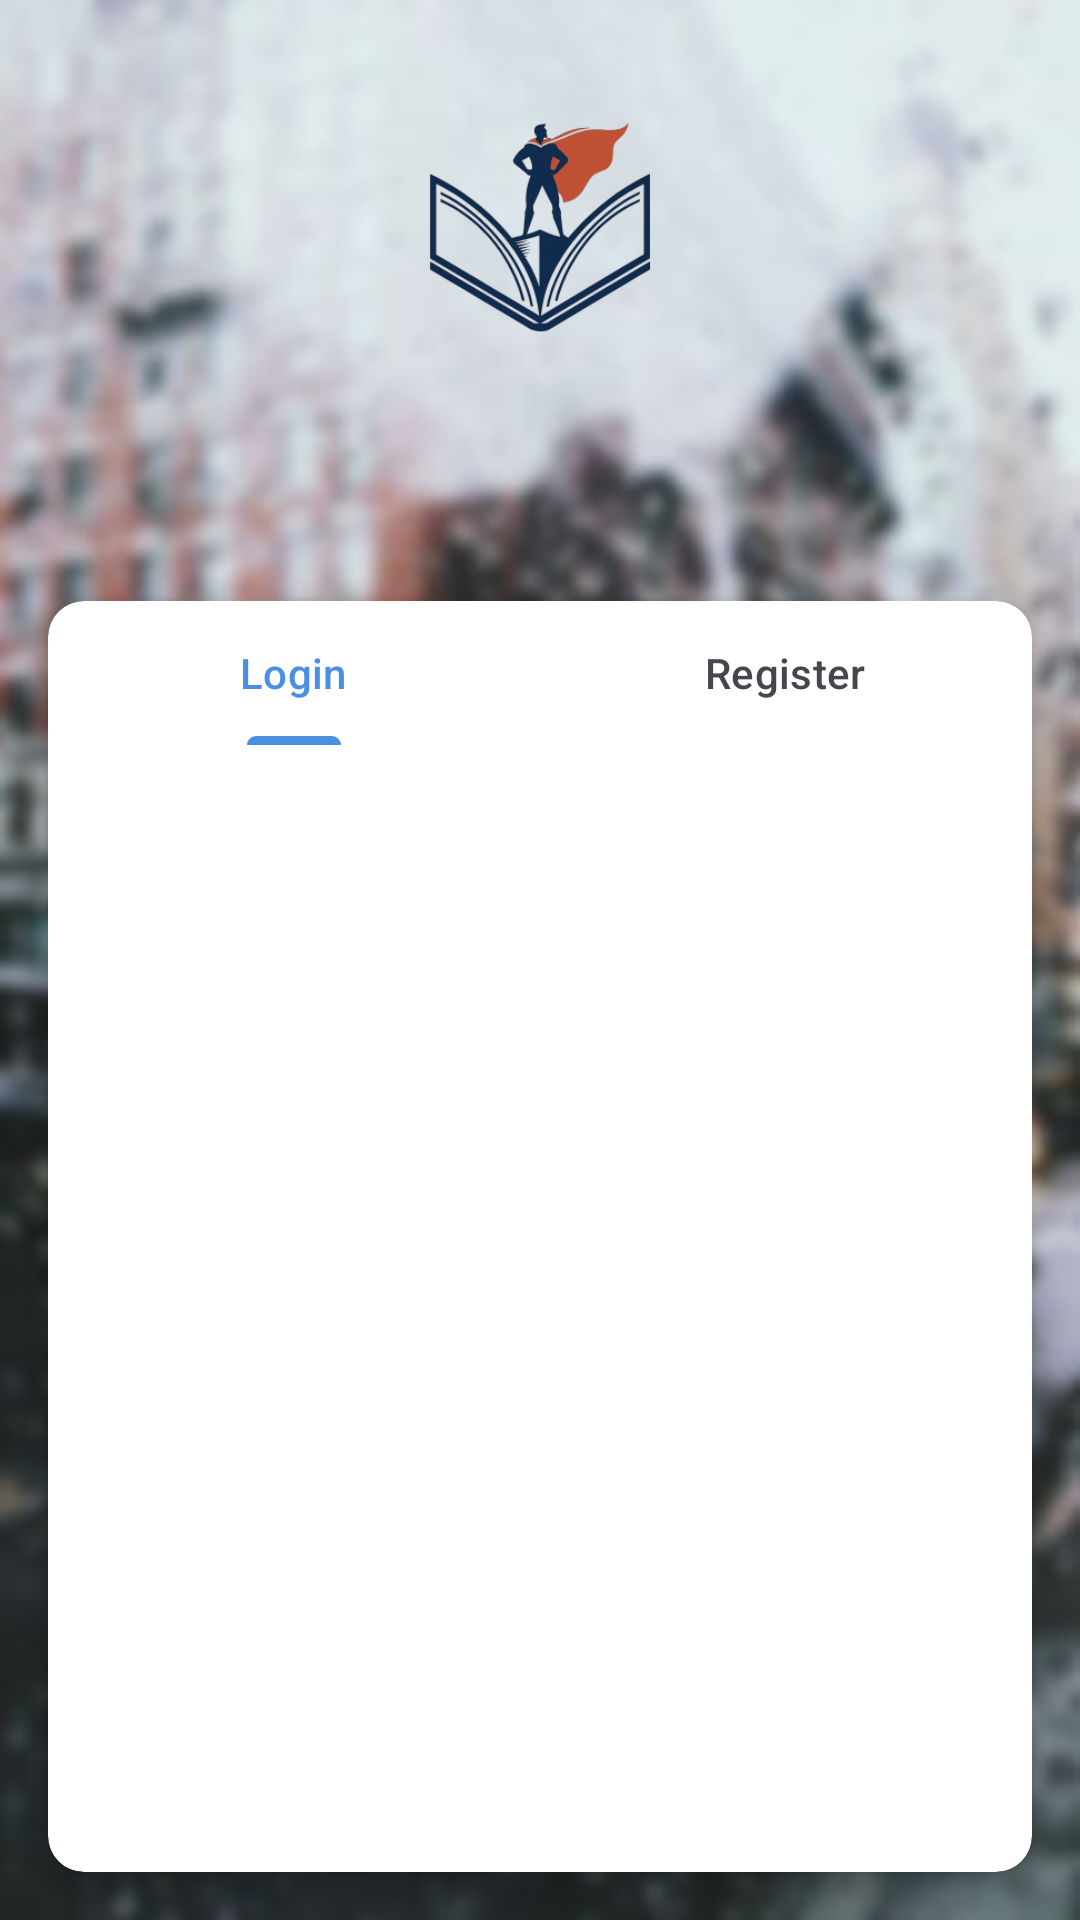

Icons on this 1080×1920 Android screen, each with its box as bbox(x1, y1, x2, y2):
app: bbox(430, 123, 650, 332)
